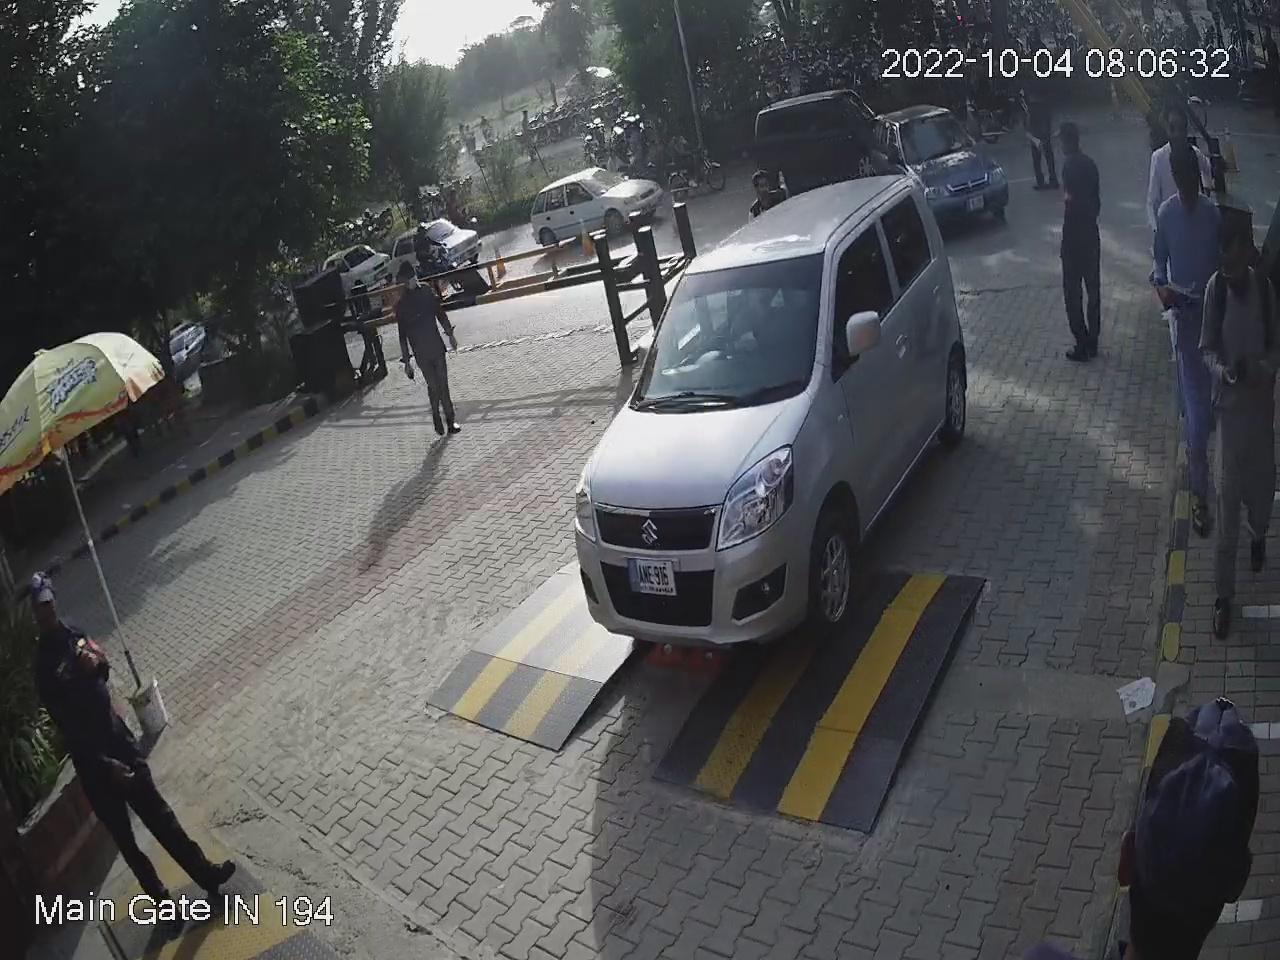windshield: (626, 247, 825, 410)
